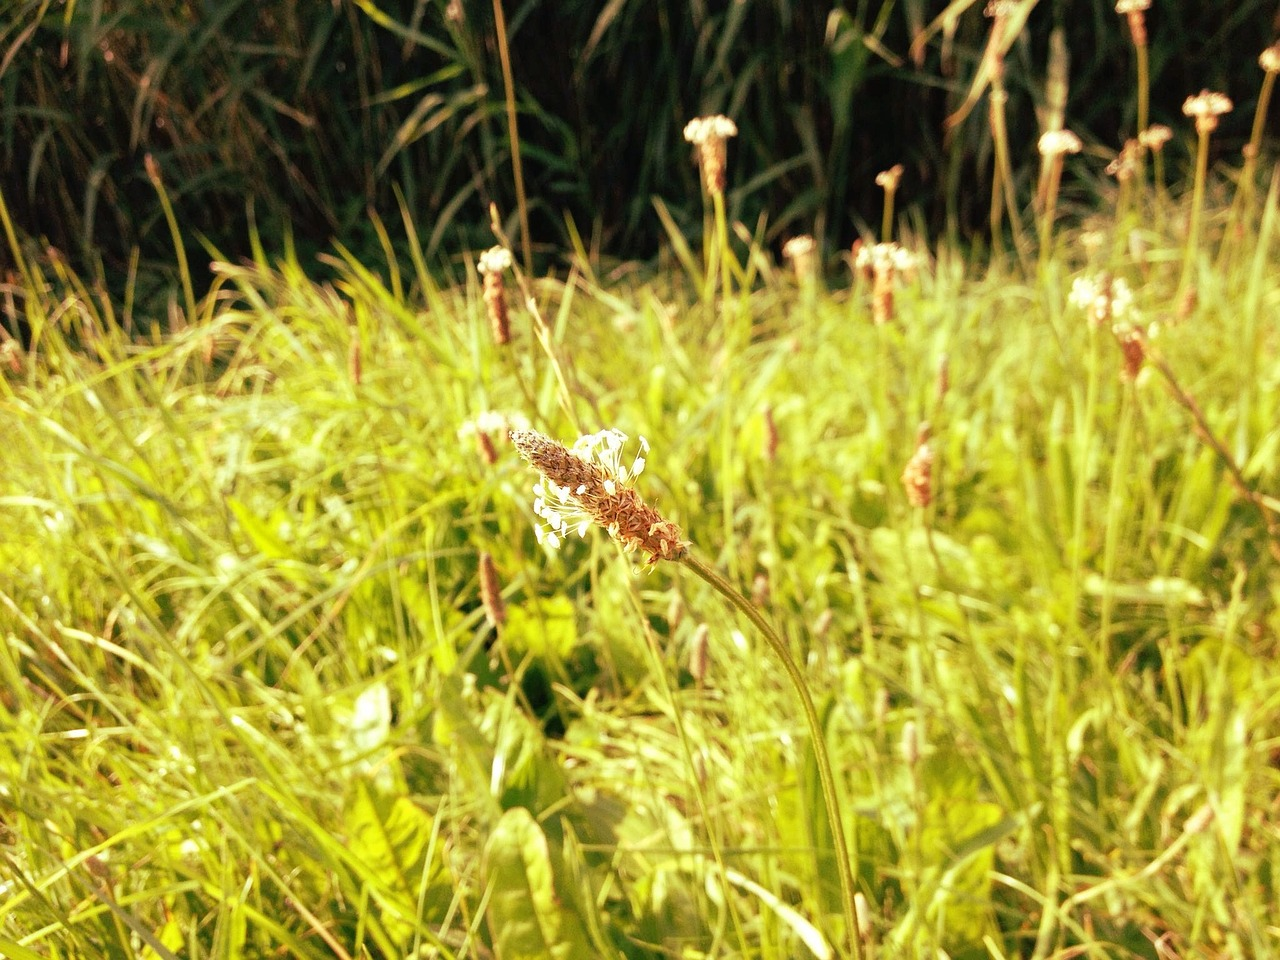buckhorn plantain: (488, 397, 809, 713)
